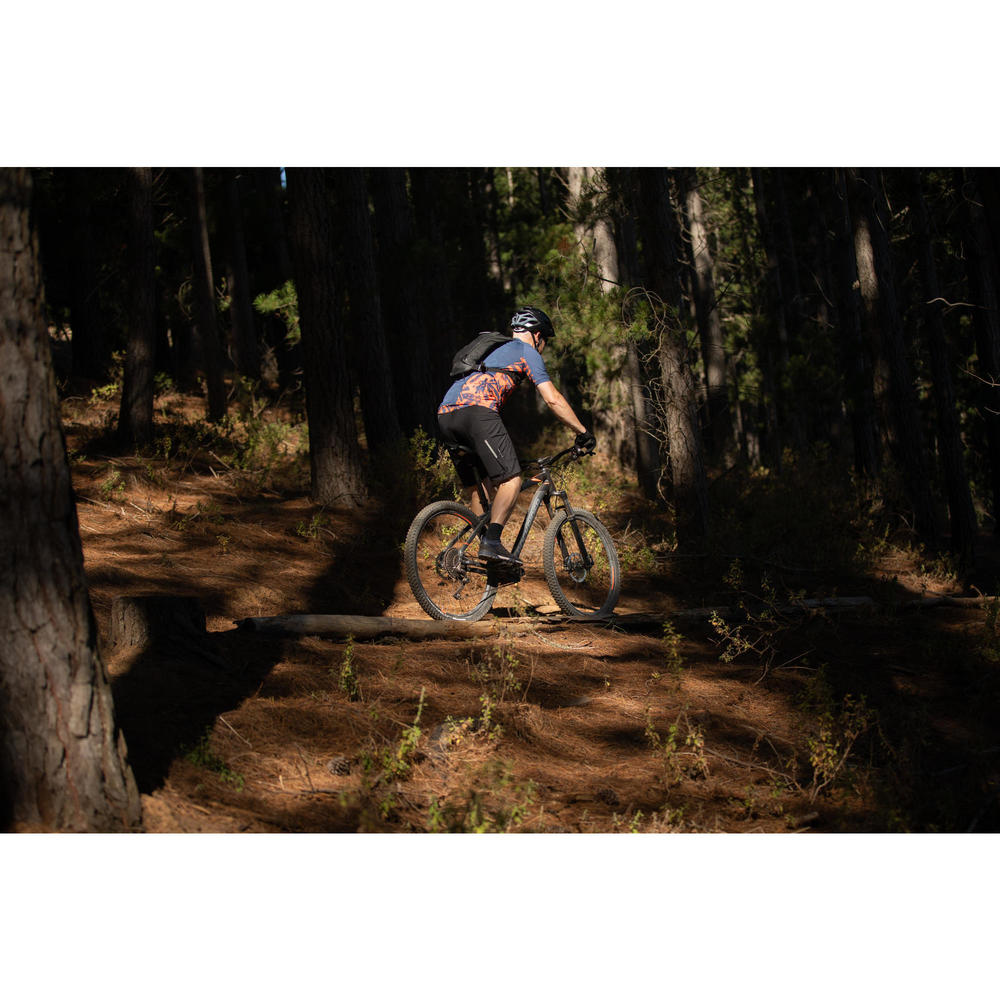MountainBike: (375, 427, 638, 624)
